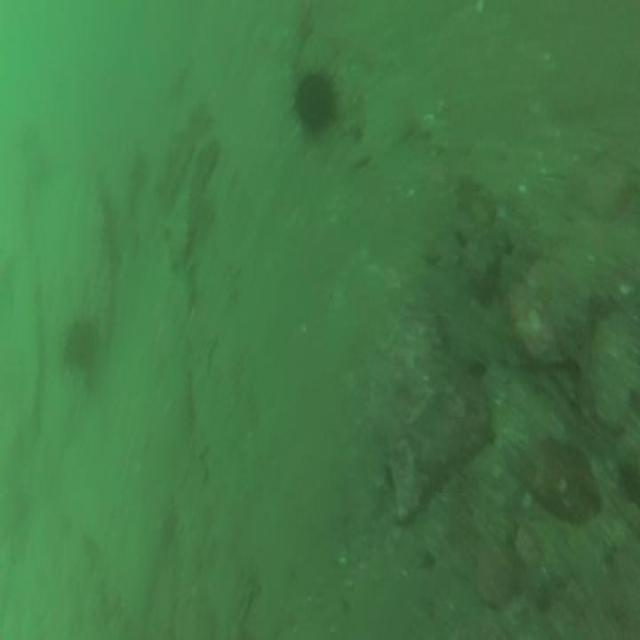echinus: (295, 76, 336, 128), (63, 329, 98, 368)
